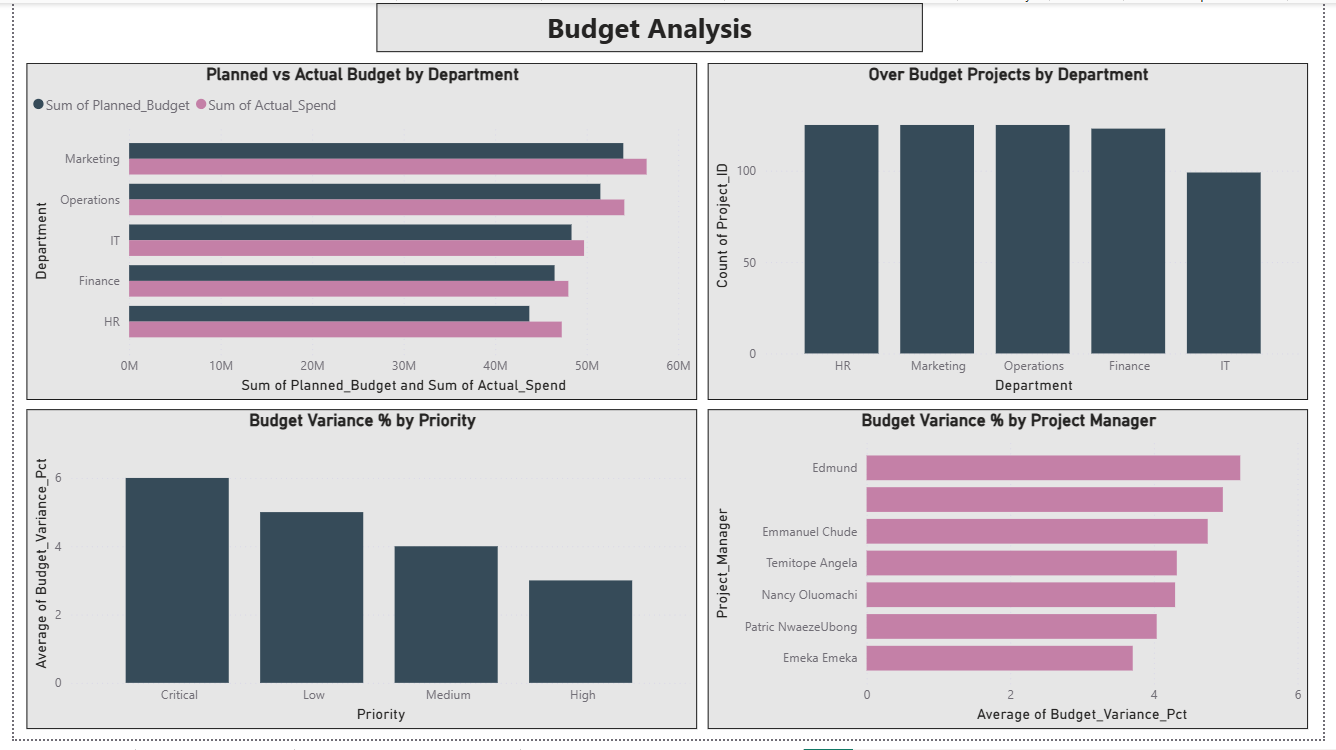

The dashboard page shown, as its layout file describes it:
{"tool":"powerbi","page":{"name":"Budget Analysis","canvas":[1280,720],"ordinal":1},"visuals":[{"type":"textbox","box":[354.6,0,534.4,47.7],"z":0},{"type":"clusteredBarChart","title":"Planned vs Actual Budget by Department","fields":{"Category":["project_portfolio_clean.Department"],"Y":["Sum(project_portfolio_clean.Planned_Budget)","Sum(project_portfolio_clean.Actual_Spend)"]},"box":[12.3,59,655.9,329.3],"z":1000},{"type":"clusteredColumnChart","title":"Budget Variance % by Priority","fields":{"Category":["project_portfolio_clean.Priority"],"Y":["Avg(project_portfolio_clean.Budget_Variance_Pct)"]},"box":[12.3,397.9,655.9,312.9],"z":2000},{"type":"clusteredColumnChart","title":"Over Budget Projects by Department","fields":{"Category":["project_portfolio_clean.Department"],"Y":["CountNonNull(project_portfolio_clean.Project_ID)"]},"box":[679.2,59,587.3,329.3],"z":3000},{"type":"clusteredBarChart","title":"Budget Variance % by Project Manager","fields":{"Category":["project_portfolio_clean.Project_Manager"],"Y":["Avg(project_portfolio_clean.Budget_Variance_Pct)"]},"box":[679.2,397.9,587.3,312.9],"z":4000}]}

Visuals, with their boxes in screenshot pixels (x1, y1, x2, y2), scaled from the page's 1280x720 canvas onto the 1336x750 screenshot:
textbox: crop(370, 0, 928, 50)
"Planned vs Actual Budget by Department" clusteredBarChart: crop(13, 61, 697, 404)
"Budget Variance % by Priority" clusteredColumnChart: crop(13, 414, 697, 740)
"Over Budget Projects by Department" clusteredColumnChart: crop(709, 61, 1322, 404)
"Budget Variance % by Project Manager" clusteredBarChart: crop(709, 414, 1322, 740)
